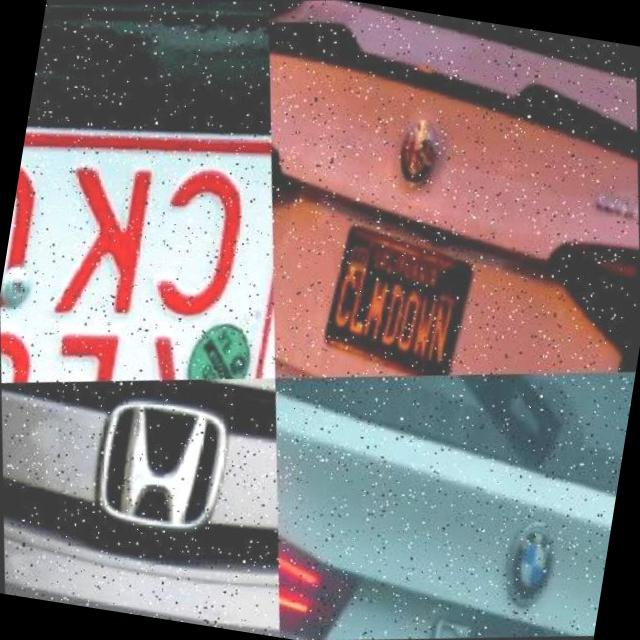LicensePlate: (0, 89, 313, 425), (308, 194, 502, 394), (406, 566, 594, 640)
